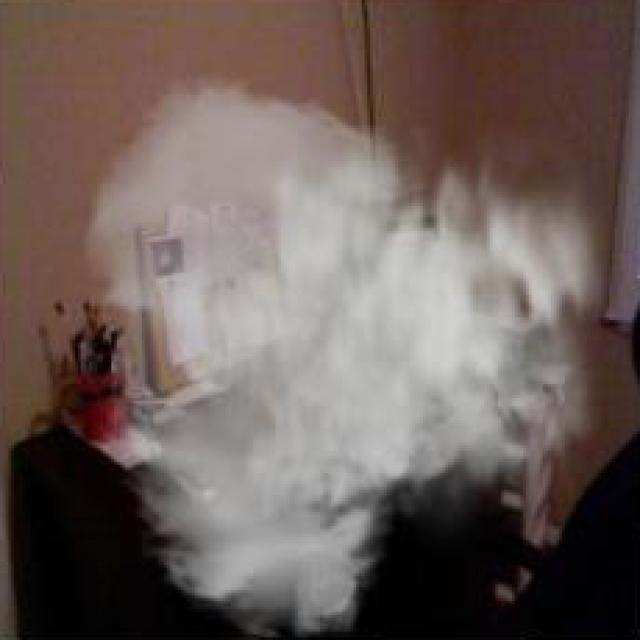fire: (84, 69, 635, 640)
